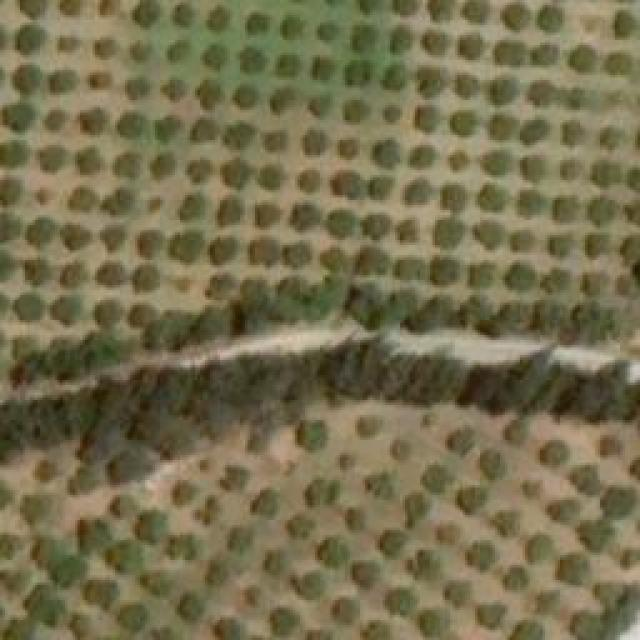Tree: (108, 450, 158, 487), (23, 583, 66, 626), (148, 315, 190, 353), (310, 278, 345, 318), (195, 308, 230, 344), (78, 517, 111, 555), (572, 300, 610, 333), (275, 285, 313, 318), (417, 298, 455, 328), (47, 558, 85, 588), (485, 73, 518, 106), (433, 218, 468, 248), (470, 220, 505, 250), (0, 103, 35, 133), (222, 155, 254, 187), (595, 580, 635, 605), (65, 465, 98, 495), (270, 608, 303, 638), (568, 465, 601, 495), (578, 522, 613, 550), (168, 232, 203, 260), (30, 537, 63, 565), (108, 545, 141, 573), (558, 555, 591, 583), (248, 237, 281, 265), (288, 202, 321, 230), (355, 245, 388, 273), (478, 147, 511, 175), (477, 178, 505, 211), (525, 80, 558, 108), (223, 120, 256, 148), (258, 160, 286, 193), (138, 513, 168, 543), (215, 195, 245, 225), (585, 198, 615, 228), (488, 510, 523, 535), (100, 188, 135, 213), (605, 487, 635, 515), (573, 612, 603, 640), (205, 272, 235, 300), (208, 237, 238, 265), (178, 192, 208, 220), (360, 212, 390, 240), (325, 210, 355, 238), (330, 170, 360, 198), (300, 127, 330, 155), (343, 57, 373, 85), (518, 117, 548, 145), (403, 177, 433, 205), (582, 230, 610, 260), (590, 160, 620, 188), (430, 255, 458, 285), (237, 43, 265, 73), (153, 115, 183, 143), (188, 115, 218, 143), (408, 553, 441, 578), (440, 183, 465, 216), (0, 617, 35, 640), (545, 498, 580, 521), (355, 288, 378, 323), (297, 420, 325, 448), (195, 495, 223, 523), (135, 230, 163, 258), (372, 140, 400, 168), (570, 45, 598, 73), (502, 2, 530, 30), (17, 25, 45, 53), (15, 65, 43, 93), (37, 145, 65, 173), (0, 140, 28, 168), (507, 620, 545, 640), (383, 293, 416, 316), (115, 113, 148, 136), (23, 493, 48, 523), (85, 580, 115, 605), (308, 480, 338, 505), (293, 570, 323, 595), (340, 98, 370, 123), (415, 65, 440, 95), (378, 63, 408, 88), (488, 113, 518, 138), (550, 195, 580, 220), (545, 235, 575, 260), (578, 270, 608, 295), (498, 305, 528, 330), (460, 298, 490, 323), (465, 263, 495, 288), (538, 3, 563, 33), (78, 108, 108, 133), (48, 68, 78, 93), (32, 458, 60, 483), (320, 538, 348, 563), (365, 473, 393, 498), (332, 598, 360, 623), (525, 535, 553, 560), (97, 228, 125, 253), (282, 243, 310, 268), (310, 55, 335, 83), (447, 110, 475, 135), (520, 155, 545, 183), (412, 105, 440, 130), (517, 190, 545, 215), (507, 263, 535, 288), (495, 40, 523, 65), (198, 80, 223, 108), (132, 0, 160, 25), (112, 153, 140, 178), (78, 147, 103, 175), (185, 158, 213, 183), (0, 570, 30, 593), (165, 538, 195, 561), (408, 145, 441, 165), (142, 573, 170, 596), (252, 493, 280, 516), (52, 298, 80, 321), (320, 245, 348, 268), (305, 93, 333, 116), (600, 125, 623, 153), (260, 130, 288, 153), (205, 42, 228, 70), (122, 75, 150, 98), (173, 0, 196, 28), (150, 152, 173, 180), (67, 188, 95, 211), (353, 560, 378, 585), (460, 485, 485, 510), (468, 543, 493, 568), (18, 295, 43, 320), (60, 263, 85, 288), (28, 220, 53, 245), (255, 203, 280, 228), (395, 218, 420, 243), (298, 168, 323, 193), (540, 303, 565, 328), (423, 30, 448, 55), (388, 28, 413, 53), (353, 25, 378, 50), (12, 334, 40, 356), (337, 447, 358, 476), (478, 605, 508, 625), (0, 213, 20, 243), (462, 0, 489, 22), (427, 0, 454, 22), (0, 535, 25, 558), (65, 615, 88, 640), (123, 605, 146, 630), (173, 480, 196, 505), (265, 550, 290, 573), (390, 588, 413, 613), (380, 530, 405, 553), (543, 440, 568, 463), (483, 453, 506, 478), (505, 418, 528, 443), (503, 565, 528, 588), (135, 265, 158, 290), (98, 263, 123, 286), (63, 225, 88, 248), (455, 73, 478, 98), (560, 120, 583, 145), (563, 85, 586, 110), (543, 268, 568, 291), (458, 35, 483, 58), (280, 13, 303, 38), (270, 88, 295, 111), (233, 85, 258, 108), (245, 13, 270, 36), (160, 78, 185, 101), (287, 515, 315, 535), (507, 230, 535, 250), (407, 493, 425, 523), (530, 45, 560, 63), (448, 430, 471, 453), (98, 303, 121, 326), (560, 158, 583, 181), (278, 53, 301, 76), (208, 5, 231, 28), (622, 235, 640, 263), (17, 0, 45, 18), (215, 620, 240, 640), (425, 468, 445, 493), (535, 593, 560, 613), (0, 178, 20, 203), (28, 258, 48, 283), (395, 258, 420, 278), (368, 178, 393, 198), (43, 110, 68, 130), (208, 563, 231, 583), (228, 528, 248, 551), (223, 468, 246, 488), (355, 418, 378, 438), (365, 620, 388, 640), (425, 613, 448, 633), (448, 583, 471, 603), (130, 305, 153, 325), (338, 138, 358, 161), (608, 53, 631, 73), (130, 40, 153, 60), (88, 70, 111, 90), (93, 38, 116, 58), (622, 200, 640, 225), (615, 10, 633, 35), (165, 40, 190, 58), (0, 252, 15, 280), (392, 0, 420, 15), (98, 0, 121, 18), (180, 598, 200, 618), (600, 435, 620, 455), (115, 497, 135, 515), (245, 585, 263, 605), (438, 522, 458, 540), (382, 103, 400, 123), (450, 150, 468, 170), (318, 22, 338, 40), (58, 35, 81, 50), (58, 0, 81, 15), (417, 415, 436, 433), (145, 195, 163, 213), (345, 508, 360, 528), (390, 443, 408, 458), (522, 480, 540, 495), (622, 550, 640, 565), (32, 188, 50, 203)
